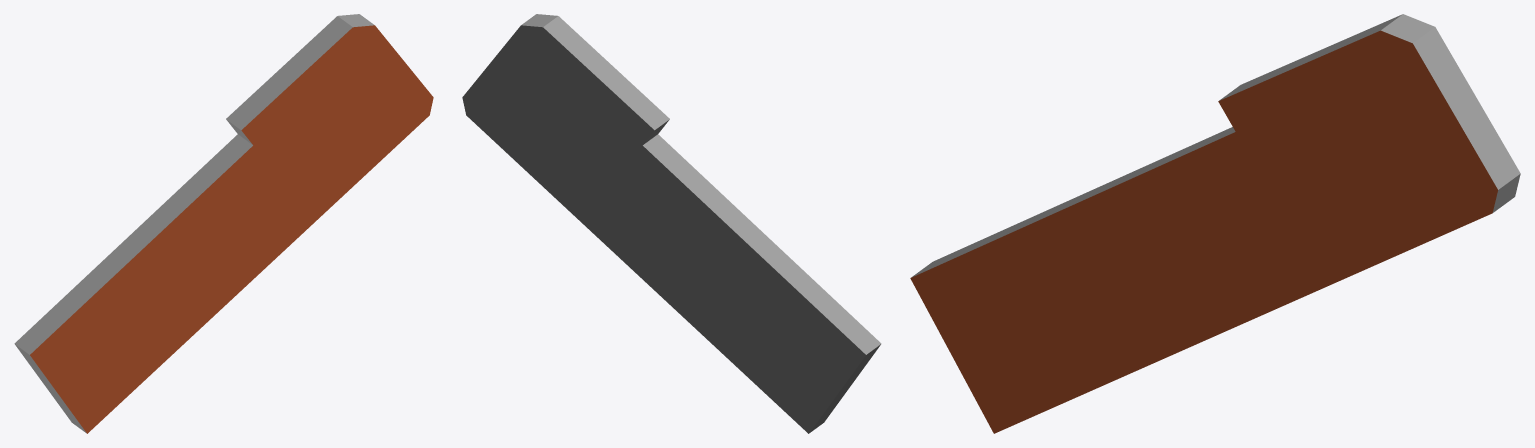
The model's file is construction_0366_assumed_A_Casa_h6m.obj.
3 renders of one model, left to right at view 1: azimuth 30°, elevation 25°; view 2: azimuth 150°, elevation 25°; view 3: azimuth 330°, elevation 25°, orthographic. The views are drawn at different scales.
Visible parts, largest first — view 1: construction_0366_assumed_A_Casa; view 2: construction_0366_assumed_A_Casa; view 3: construction_0366_assumed_A_Casa.
Part boxes in pixels (left/top/right/bottom): construction_0366_assumed_A_Casa: left=14, top=14, right=433, bottom=433; construction_0366_assumed_A_Casa: left=462, top=14, right=881, bottom=433; construction_0366_assumed_A_Casa: left=910, top=14, right=1520, bottom=433.
Bounding box in the file's own units: 90.34 × 73.09 × 6.
